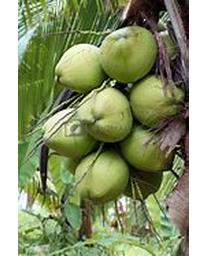coconut: (98, 26, 158, 83), (77, 90, 134, 143), (74, 153, 129, 203), (130, 79, 186, 128), (118, 126, 172, 174), (43, 107, 98, 154), (55, 41, 106, 90)
